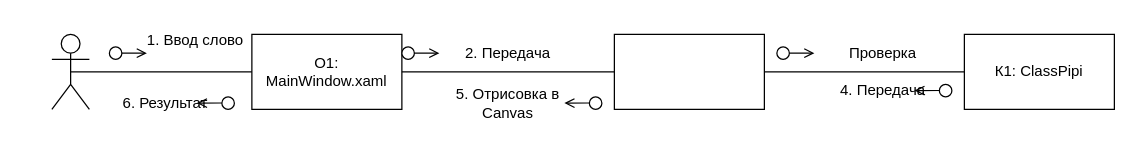
Some shapes in this 1136 by 156 pixel diagram are drawn without their labels. Here are the shapes that lost their labels. From the top down, the centre of each, then its label:
At pixel 70 71: "Пользователь".
At pixel 688 71: "О1: MainWindow.xaml.cs".
